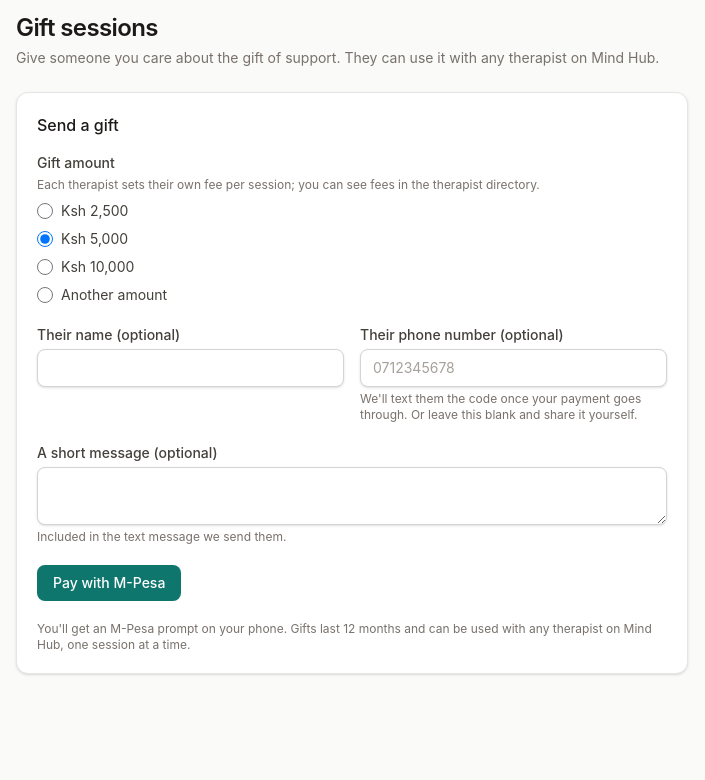
GiftsPage › validates a custom amount
Click the radio button labelled "Another amount" at (45, 295), box [37, 287, 53, 303]
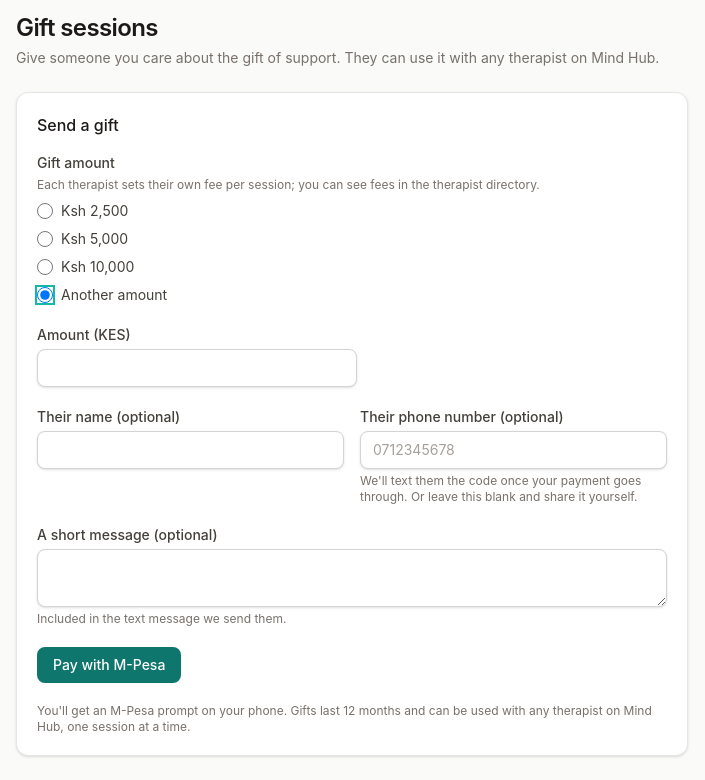
Type "100" into the number field labelled "Amount (KES)" at (197, 368), box [37, 349, 357, 387]
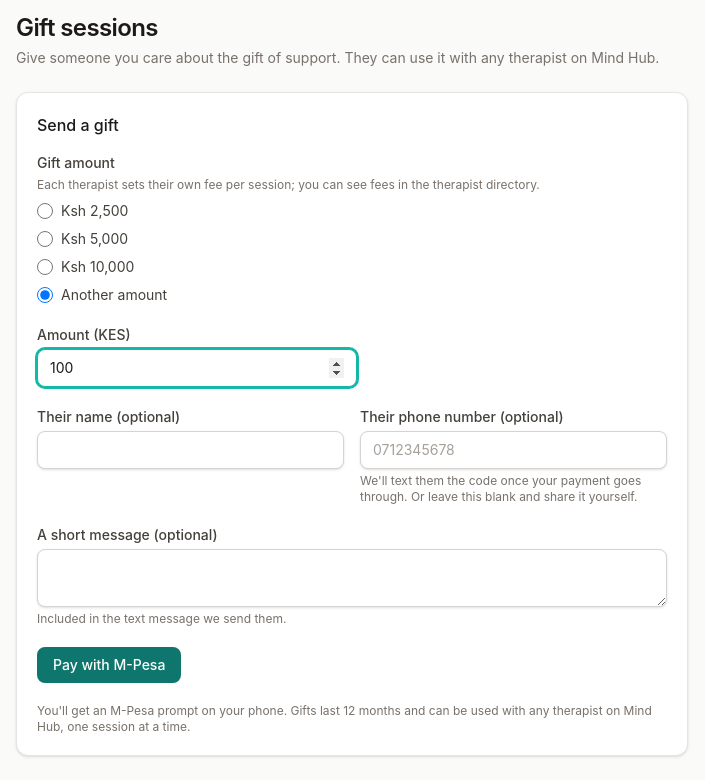
Click the button "Pay with M-Pesa" at (109, 665), box [37, 647, 181, 683]
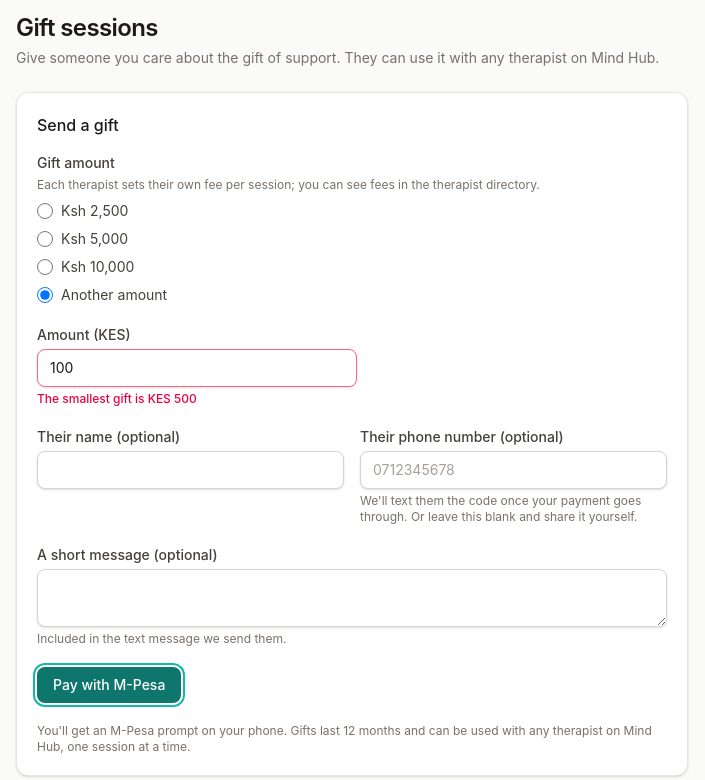
Check: the text "The smallest gift is KES 500" is shown, box [37, 391, 197, 406]
